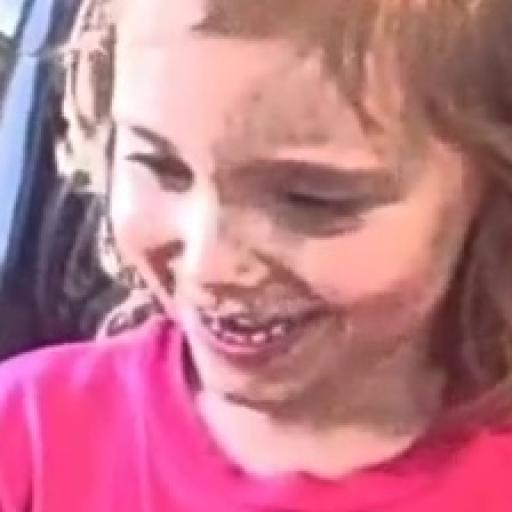Autism: (80, 0, 512, 425)
